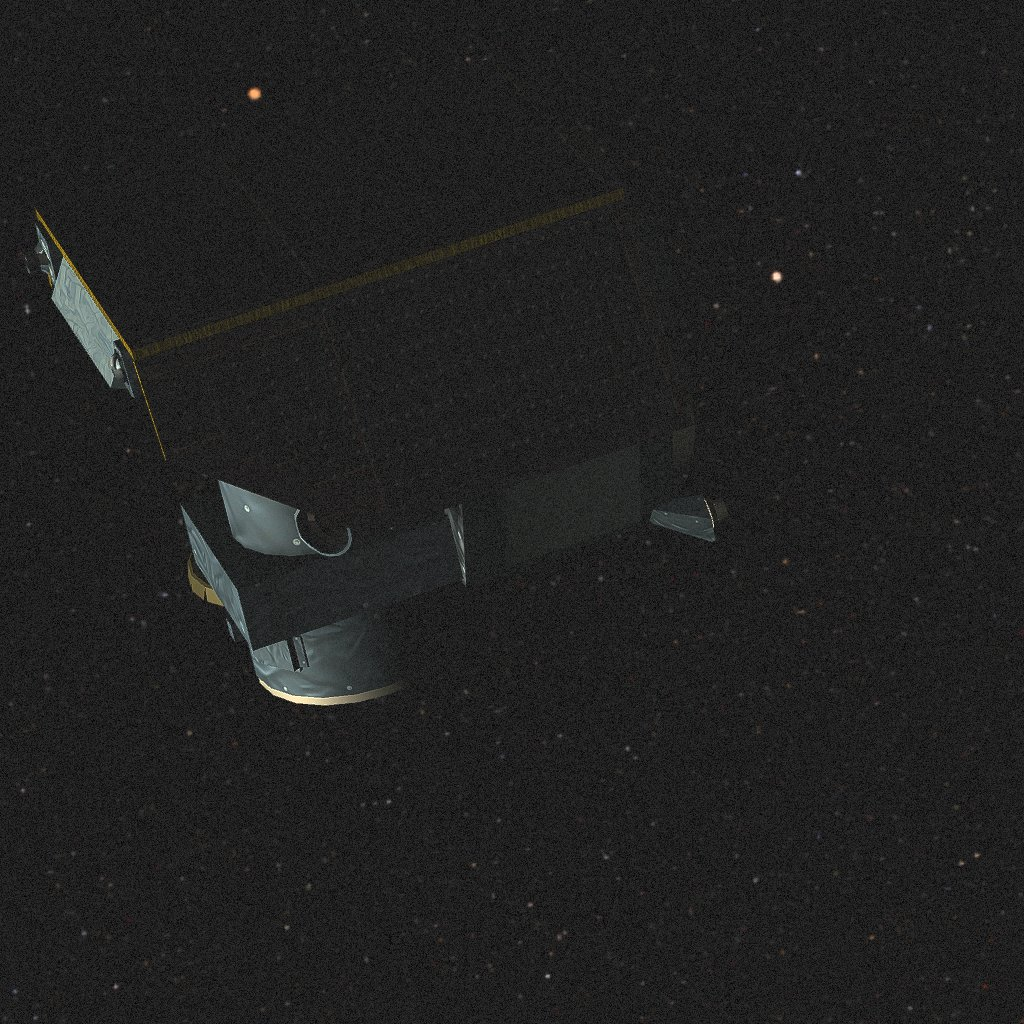cheops: (23, 55, 728, 705)
